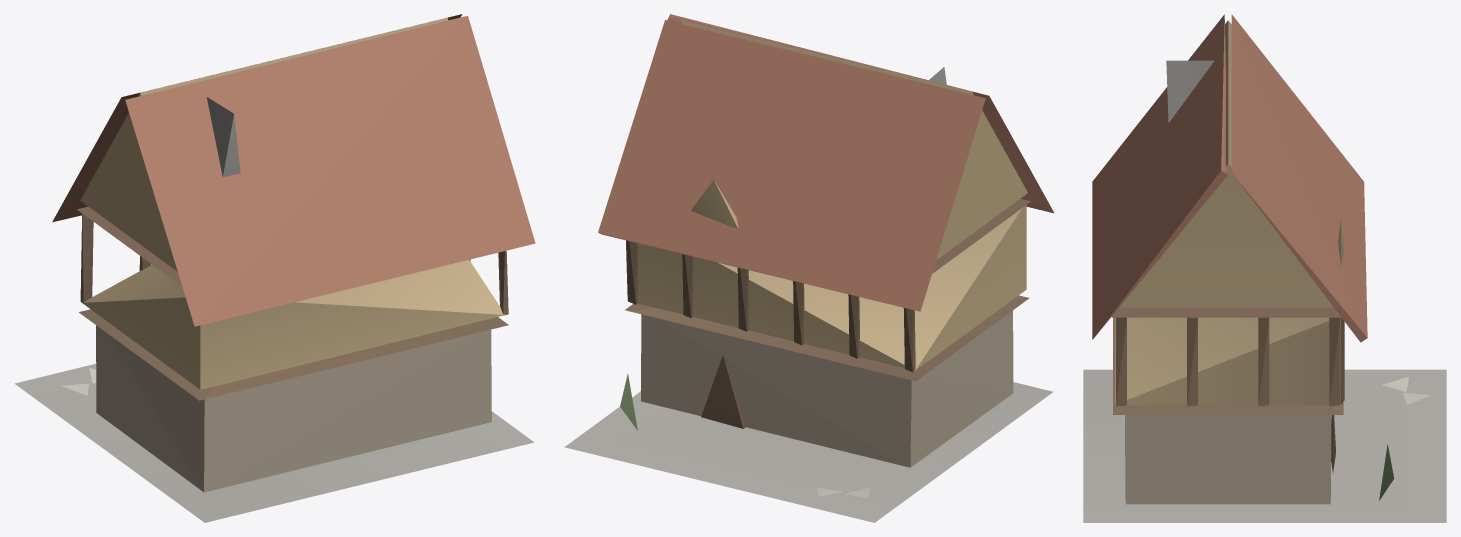
The model's file is house_merchants.v1.lite.glb.
3 views of the same model, side by side, from view 1: azimuth 30°, elevation 25°; view 2: azimuth 150°, elevation 25°; view 3: azimuth 270°, elevation 25° (orthographic). The views are drawn at different scales.
Parts seen in each view (by area): view 1: house_merchants; view 2: house_merchants; view 3: house_merchants.
Part boxes in pixels (x1=…): house_merchants: x1=15, y1=14, x2=535, y2=522; house_merchants: x1=564, y1=14, x2=1053, y2=522; house_merchants: x1=1083, y1=14, x2=1446, y2=522.
Bounding box in the file's own units: 3.06 × 3.21 × 2.96.
